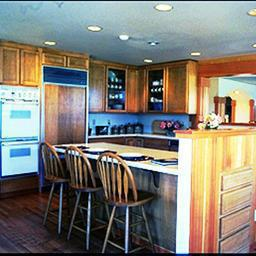Electrodomestico: (4, 89, 40, 173)
